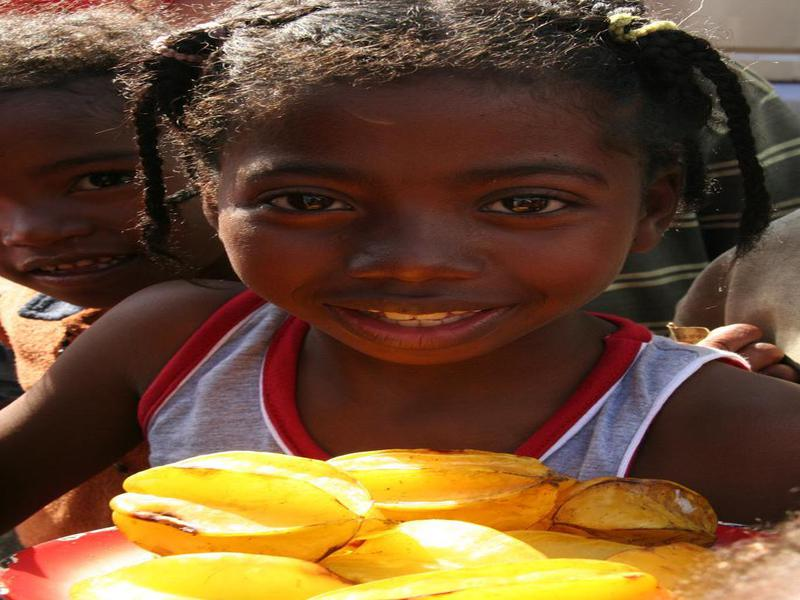person: (90, 1, 800, 600), (1, 15, 222, 312)
